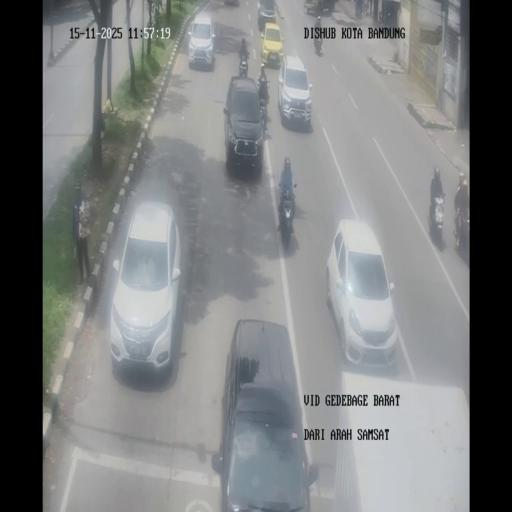3: (332, 373, 469, 511)
car: (211, 320, 316, 510), (109, 199, 184, 377), (328, 221, 398, 366), (222, 74, 265, 172), (278, 54, 312, 129), (188, 13, 216, 70), (260, 22, 284, 67), (256, 0, 276, 30), (304, 0, 337, 16)
truck: (277, 180, 297, 248), (428, 191, 446, 247), (453, 200, 469, 256), (258, 86, 269, 128), (239, 51, 249, 77), (314, 31, 324, 56), (378, 5, 386, 23)
